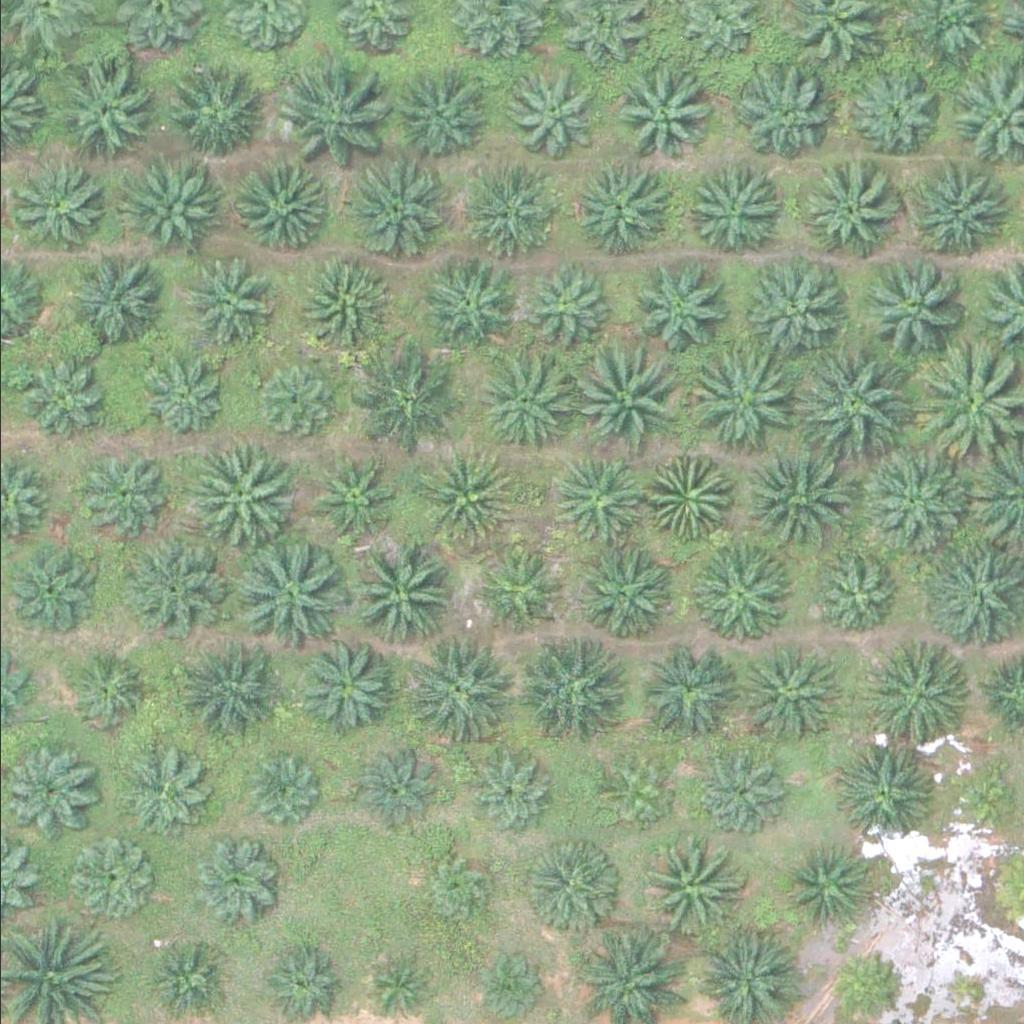Kelapa_Sawit: (164, 628, 277, 741), (227, 537, 340, 650), (271, 63, 384, 176), (355, 348, 468, 461), (680, 348, 793, 461), (796, 347, 909, 460), (858, 448, 972, 560), (341, 543, 455, 655), (183, 437, 296, 549), (466, 347, 579, 459), (576, 342, 689, 454), (744, 440, 857, 552), (513, 629, 626, 741), (399, 630, 512, 742), (289, 637, 390, 737), (122, 534, 223, 634), (293, 251, 394, 351), (64, 253, 165, 353), (160, 63, 261, 163), (48, 59, 149, 159), (612, 70, 713, 170), (497, 63, 598, 163), (388, 67, 489, 167), (345, 161, 446, 261), (569, 160, 670, 260), (798, 162, 899, 262), (861, 258, 962, 358), (625, 253, 726, 353), (413, 256, 514, 356), (414, 446, 515, 546), (570, 545, 671, 645), (694, 544, 795, 644), (730, 646, 831, 746), (639, 644, 740, 744), (832, 737, 933, 837), (639, 836, 740, 936), (227, 158, 327, 258), (122, 159, 222, 259), (731, 60, 831, 160), (459, 168, 559, 268), (683, 163, 783, 263), (912, 170, 1012, 270), (744, 257, 844, 357), (869, 643, 969, 743), (521, 837, 621, 937), (138, 929, 226, 1017), (249, 359, 337, 447), (142, 348, 230, 436), (14, 352, 102, 440), (9, 545, 97, 633), (63, 646, 151, 734), (62, 835, 150, 923), (181, 261, 269, 349), (557, 457, 645, 545), (306, 453, 394, 541), (482, 551, 570, 639), (349, 744, 437, 832), (467, 751, 555, 839), (81, 449, 169, 536), (191, 837, 279, 924), (118, 748, 206, 835), (15, 166, 103, 253), (849, 69, 937, 156), (524, 263, 612, 350), (649, 455, 737, 542), (807, 556, 895, 643), (700, 749, 788, 836), (780, 843, 868, 930), (831, 947, 907, 1022), (240, 752, 316, 827), (357, 948, 433, 1023), (946, 759, 1022, 834), (599, 756, 674, 831), (415, 854, 490, 929)
